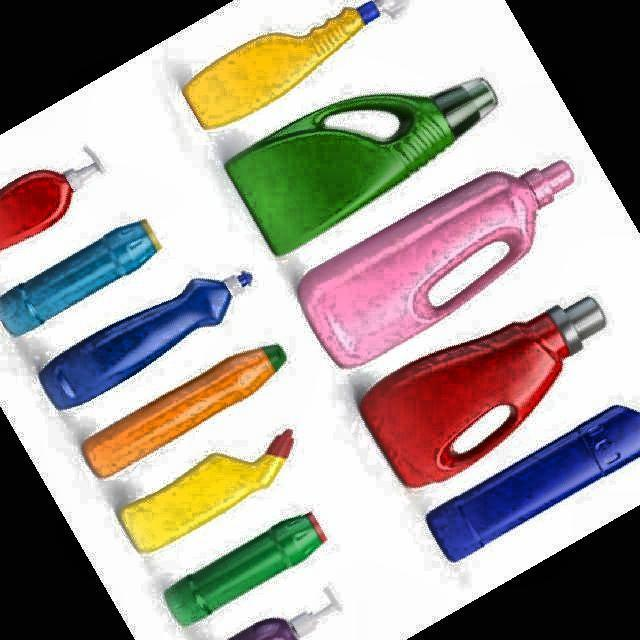plastic: (298, 162, 572, 367), (226, 78, 497, 255), (360, 297, 605, 487), (427, 406, 639, 561), (39, 272, 251, 409), (183, 0, 403, 128), (83, 348, 288, 477), (119, 429, 292, 553), (0, 221, 159, 335), (165, 514, 323, 625), (0, 147, 103, 250), (229, 588, 338, 639)
